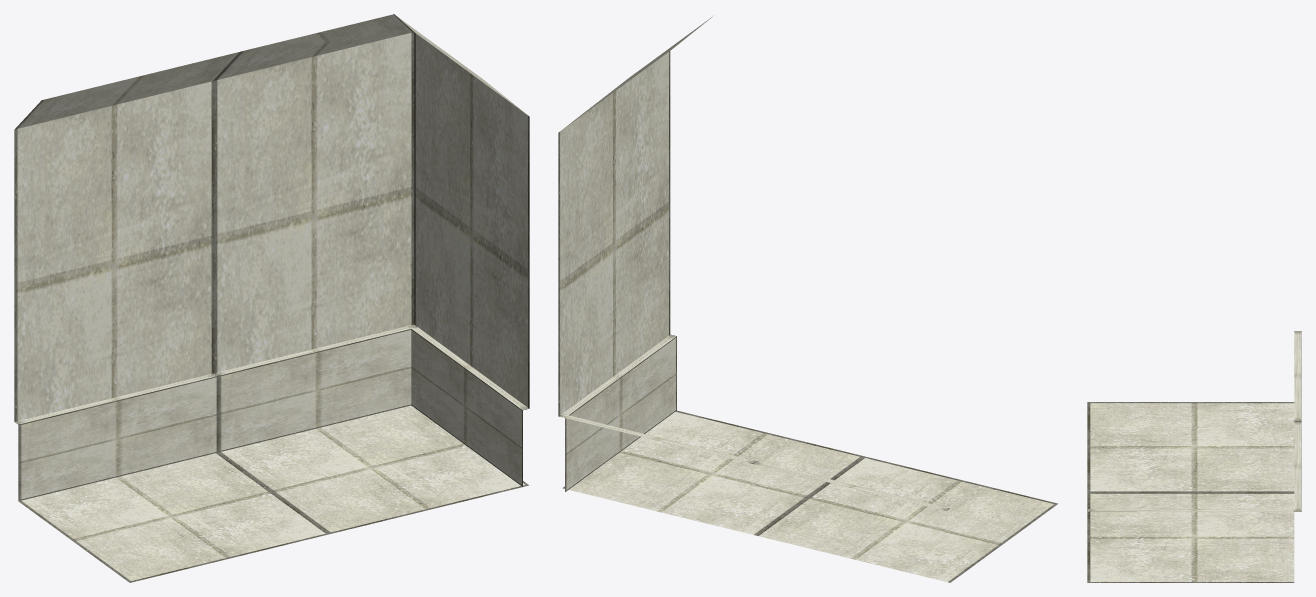
Rendered from lab2.glb.
3 views of the same model, side by side, from view 1: azimuth 30°, elevation 25°; view 2: azimuth 150°, elevation 25°; view 3: azimuth 270°, elevation 25° (orthographic). The views are drawn at different scales.
Visible parts, largest first — view 1: lab segment2.001, lab segment2; view 2: lab segment2.001, lab segment2; view 3: lab segment2, lab segment2.001.
Part boxes in pixels (left/top/right/bottom): lab segment2.001: left=214, top=14, right=529, bottom=533; lab segment2: left=14, top=51, right=329, bottom=582; lab segment2.001: left=558, top=16, right=863, bottom=535; lab segment2: left=753, top=456, right=1057, bottom=582; lab segment2: left=1087, top=331, right=1301, bottom=492; lab segment2.001: left=1087, top=421, right=1301, bottom=582.
Size of the model in its own units: 6 by 6 by 3.
Materials: 1 (1 with a texture image).
